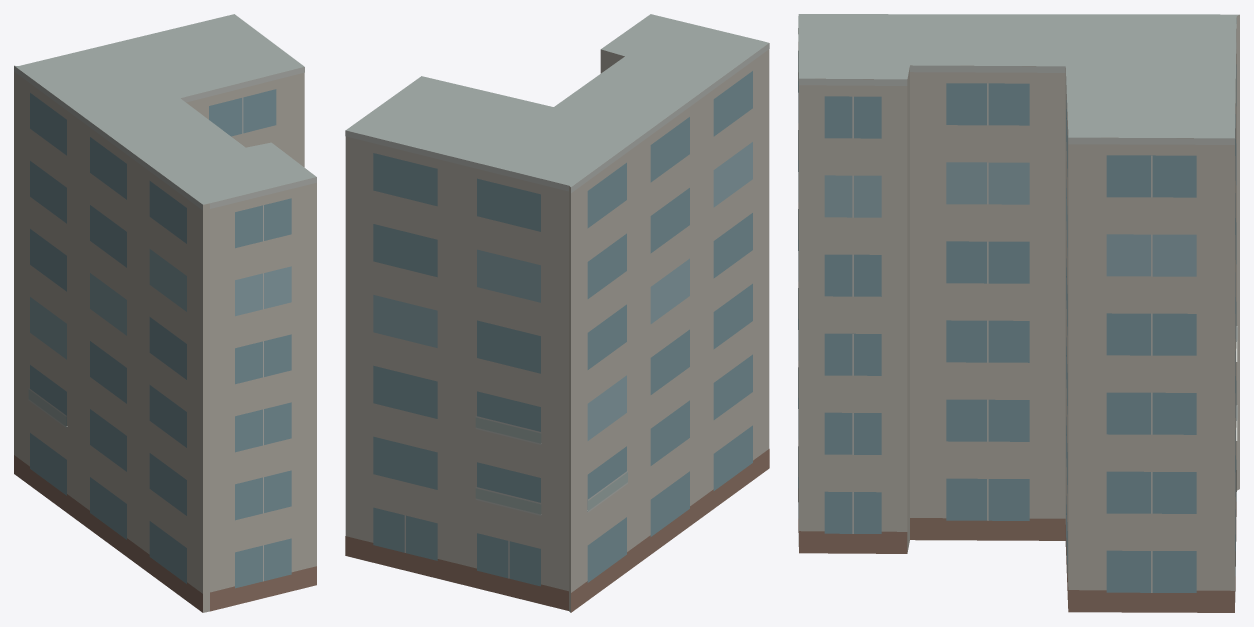
File: survey-upis-32822172.glb
3 renders of one model, left to right at view 1: azimuth 30°, elevation 25°; view 2: azimuth 150°, elevation 25°; view 3: azimuth 270°, elevation 25°, orthographic. The views are drawn at different scales.
Parts seen in each view (by area): view 1: survey-upis-32822172.tmp; view 2: survey-upis-32822172.tmp; view 3: survey-upis-32822172.tmp.
Boxes of the visible parts, box(x1,y1,x2,y2) form: survey-upis-32822172.tmp: box(14, 14, 316, 612); survey-upis-32822172.tmp: box(345, 14, 769, 612); survey-upis-32822172.tmp: box(798, 14, 1239, 612).
Size of the model in its own units: 9.74 by 17.3 by 14.6.
